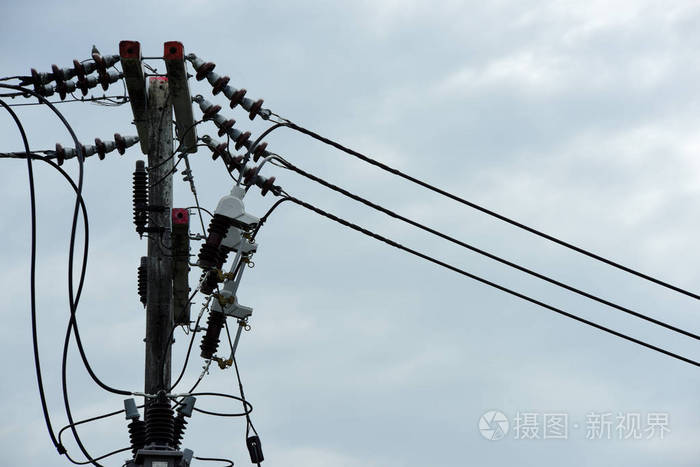insulator: (192, 55, 264, 119), (29, 53, 113, 105), (211, 141, 279, 197), (201, 105, 271, 159), (52, 131, 128, 168)
